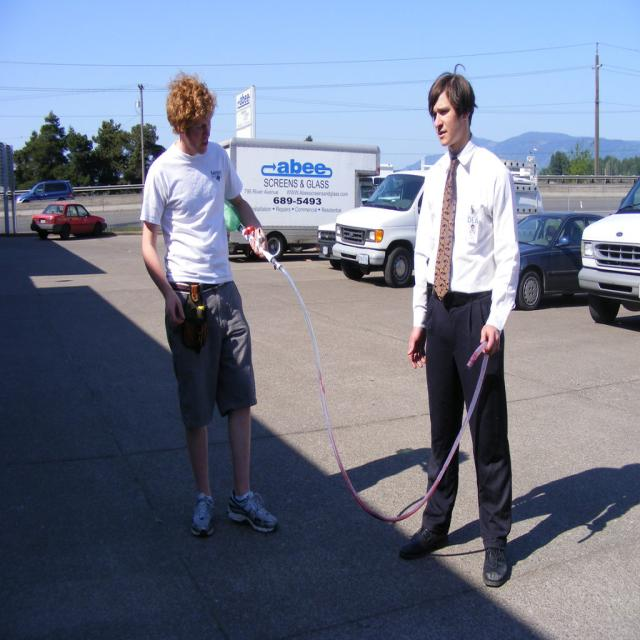car: (29, 203, 107, 239)
